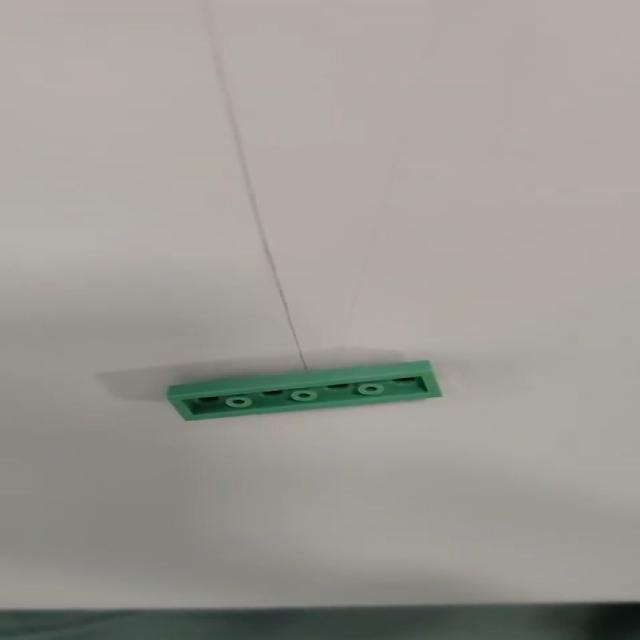C4x1x0: (141, 356, 440, 422)
